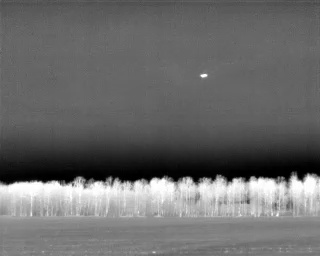DRONE: (197, 69, 211, 82)
